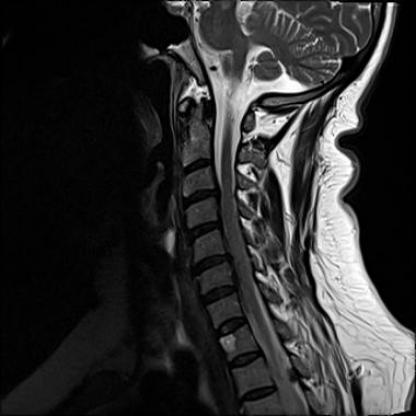Disc Protrusionrotation: (197, 285, 239, 303), (189, 255, 231, 273), (181, 189, 222, 207)
